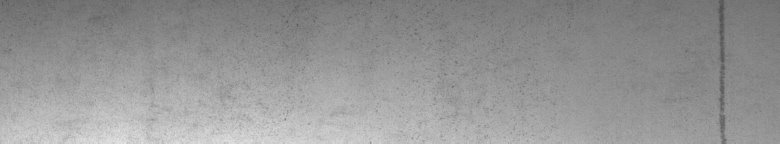hd: (713, 4, 730, 136)
